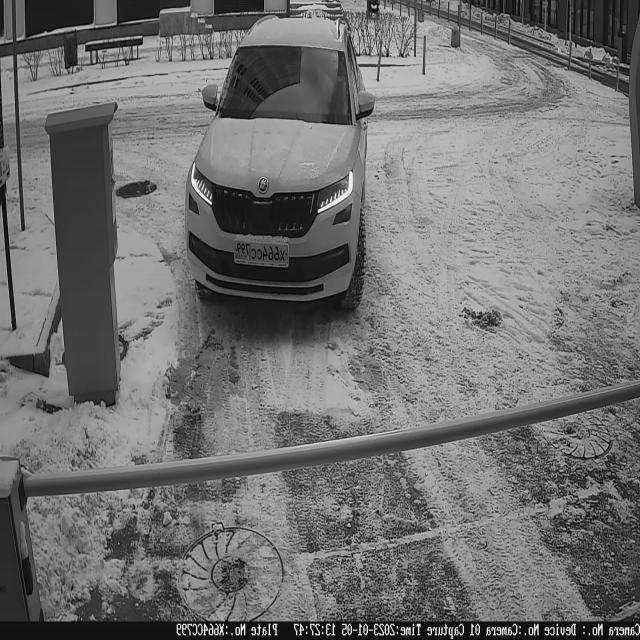car-plate-numbers: (230, 236, 292, 271)
